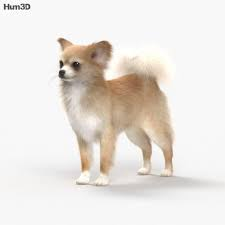Bulldog: (36, 31, 210, 185)
